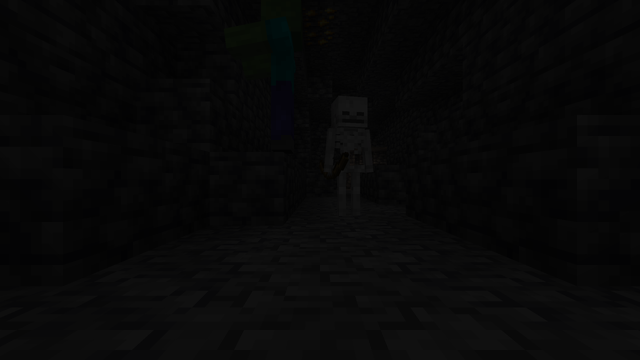squelettes: (330, 96, 368, 217)
zombies: (255, 1, 305, 154)
